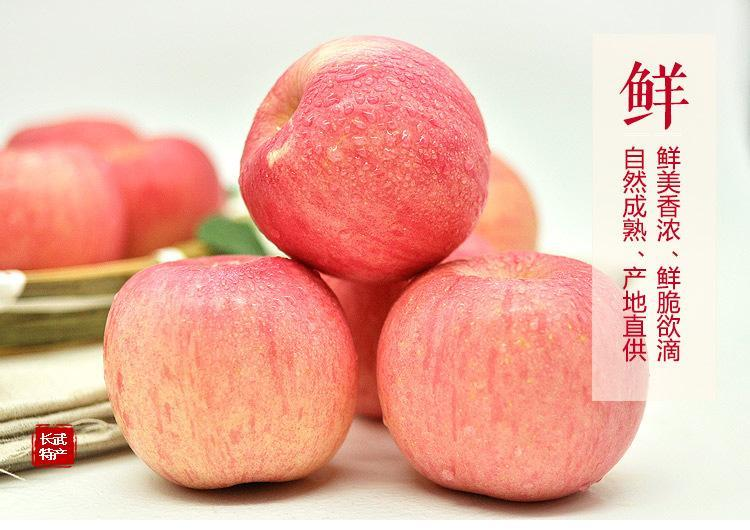apple: (373, 251, 644, 503), (237, 37, 489, 279), (103, 255, 361, 489)
